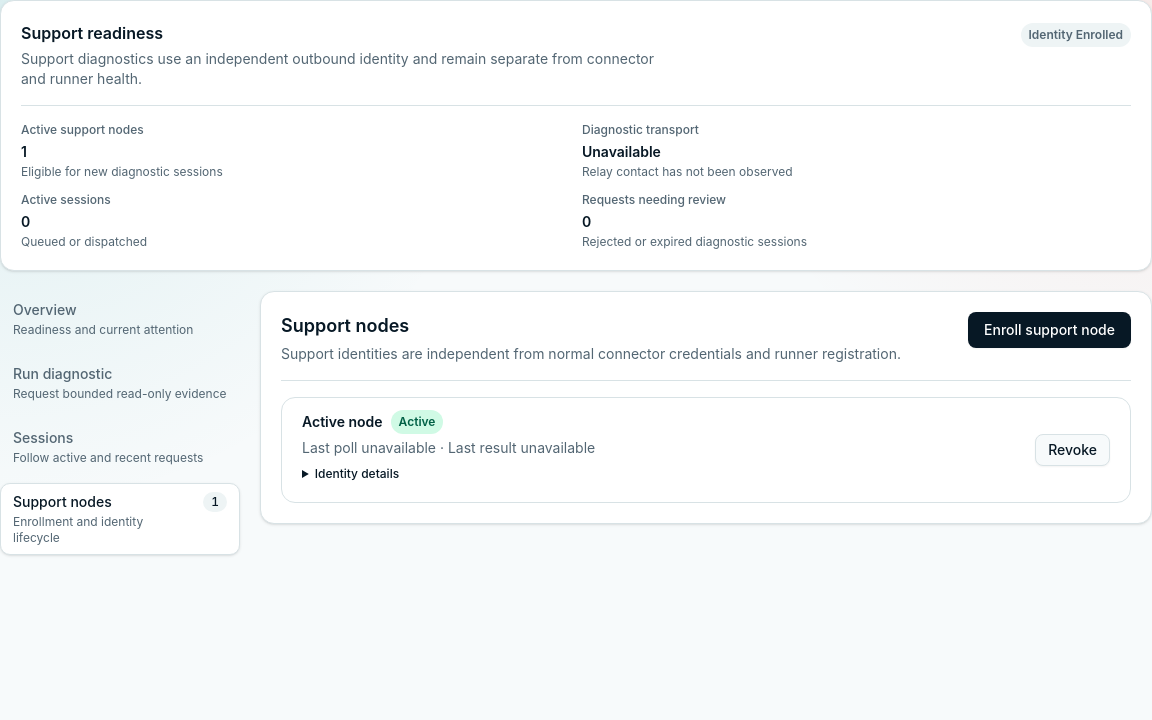
SupportPage › focuses and exposes a copy action for a newly created enrollment code
The width and height of the screenshot is (1152, 720).
Click the button "Enroll support node": point(1050, 330) [968, 312, 1131, 348]
(page scrolled)
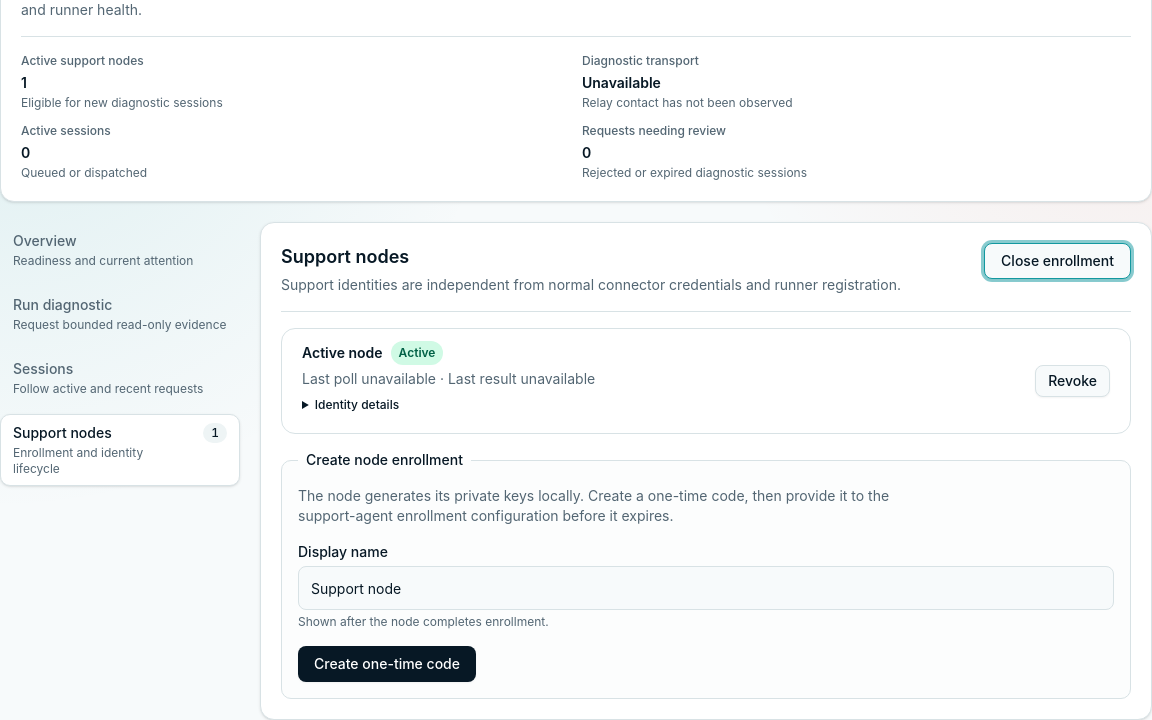
Click the button "Create one-time code": point(387, 664) [298, 646, 476, 682]
(page scrolled)
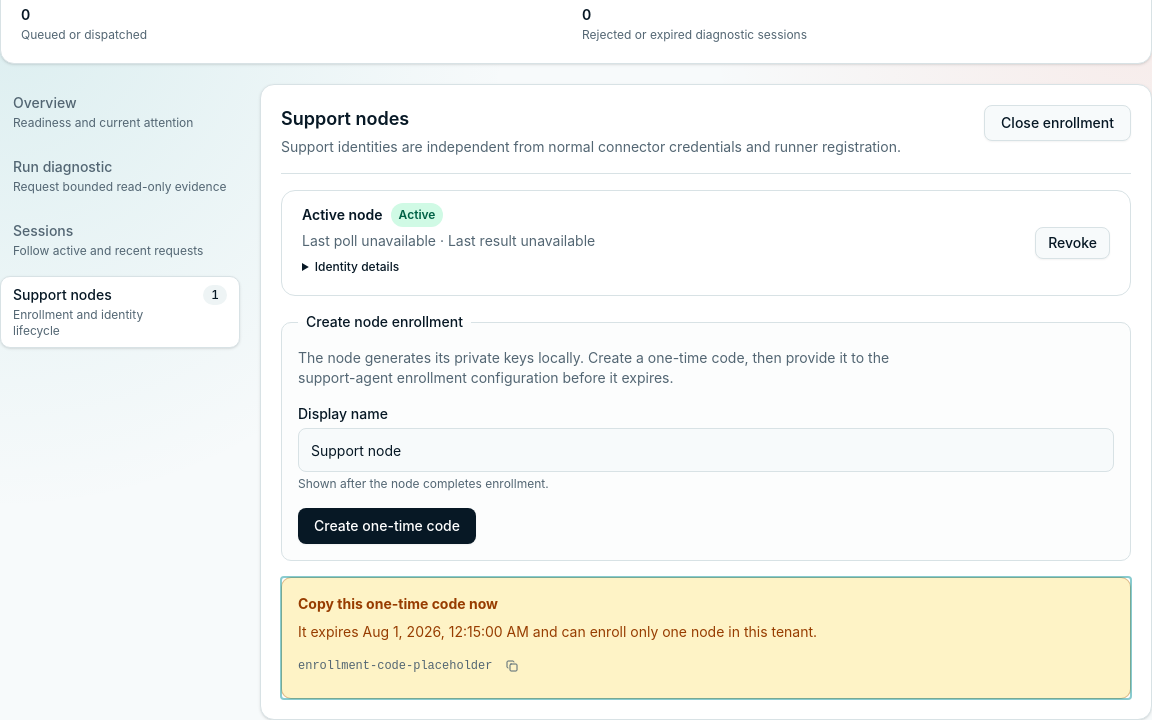
Result: the button named "Copy one-time enrollment code" is shown at [496, 650, 528, 682]
